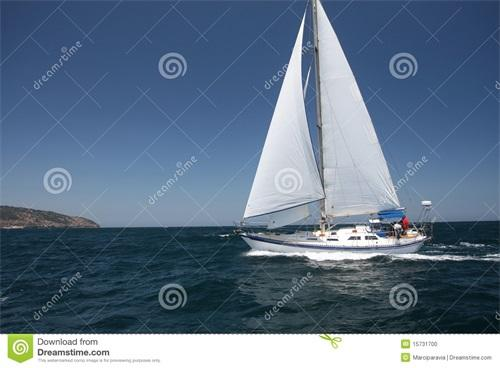Ship: (241, 1, 432, 260)
